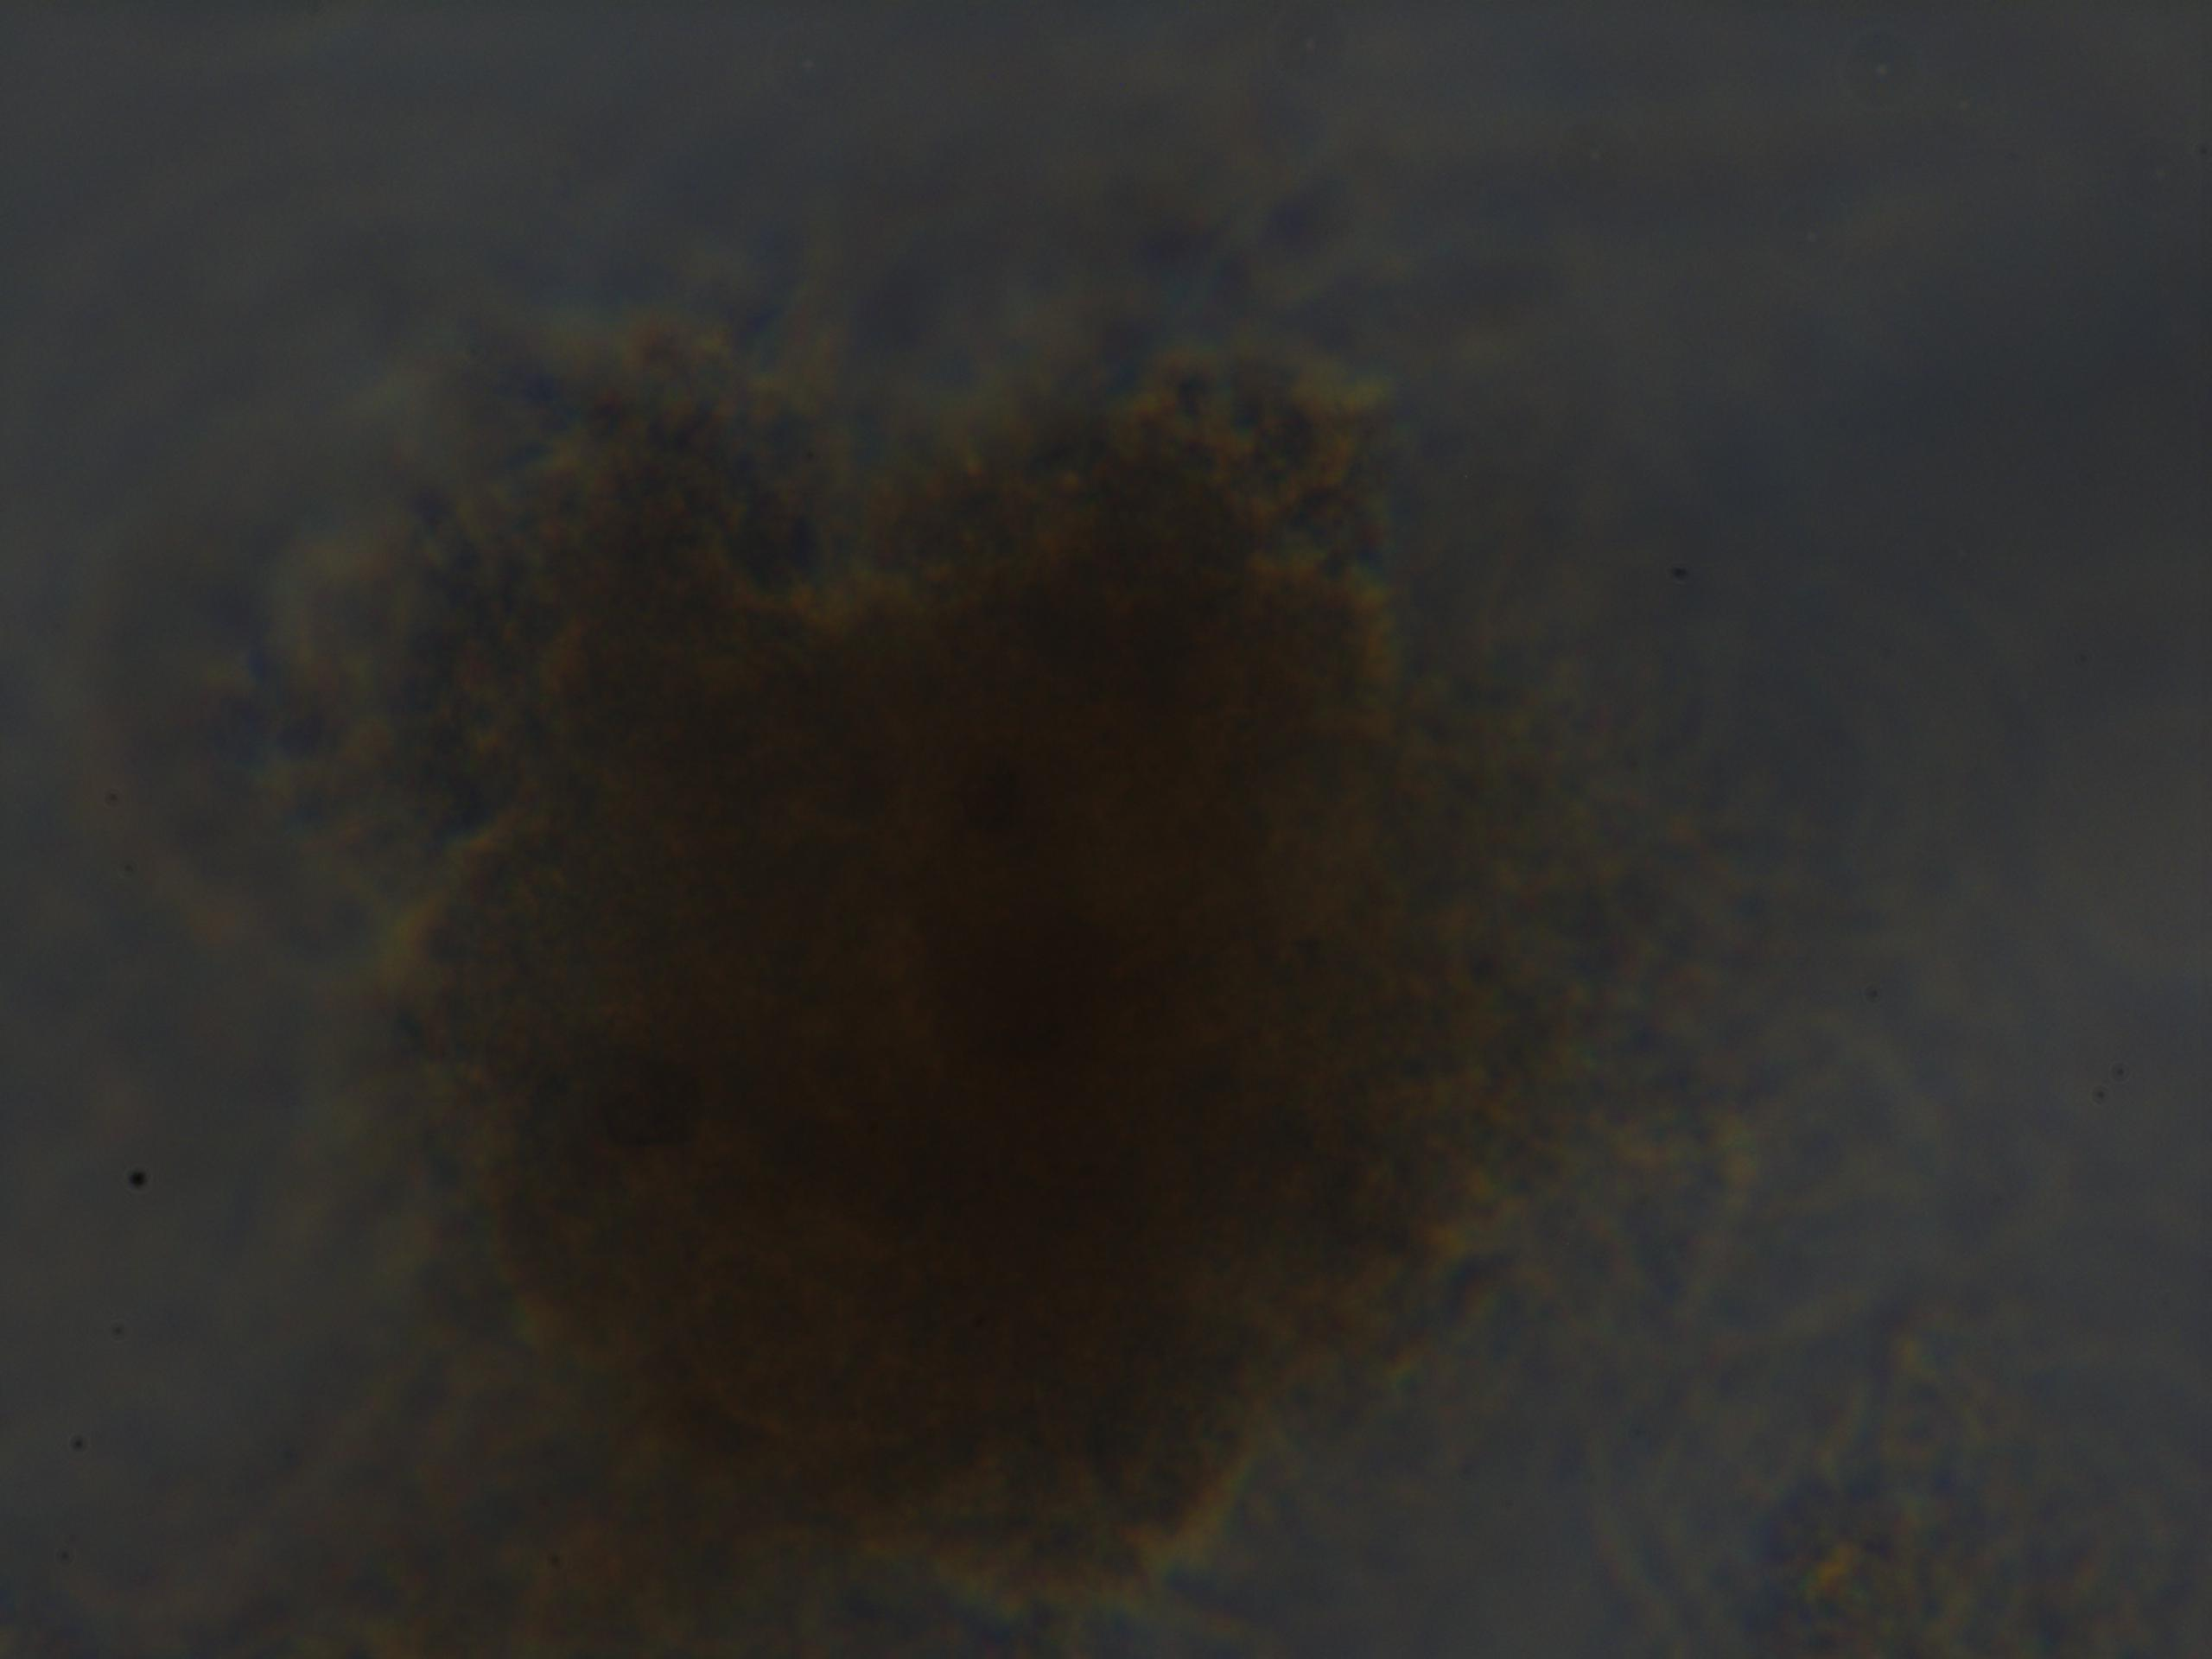spherical_floc: (383, 342, 1517, 1608)
